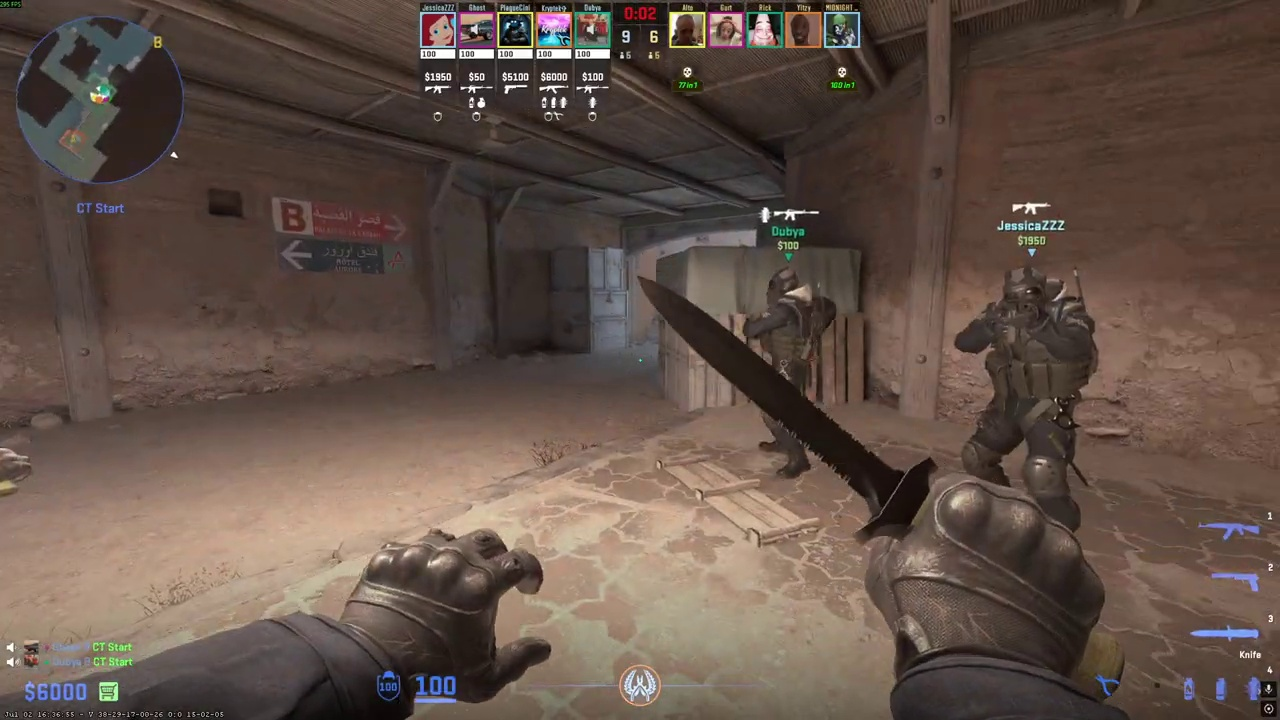CT: (954, 265, 1099, 529), (743, 266, 836, 479)
